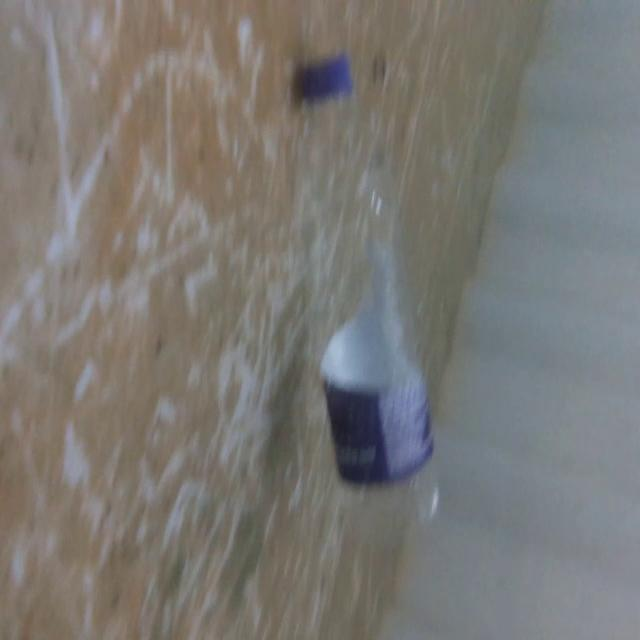plastic bottle: (288, 53, 452, 545)
